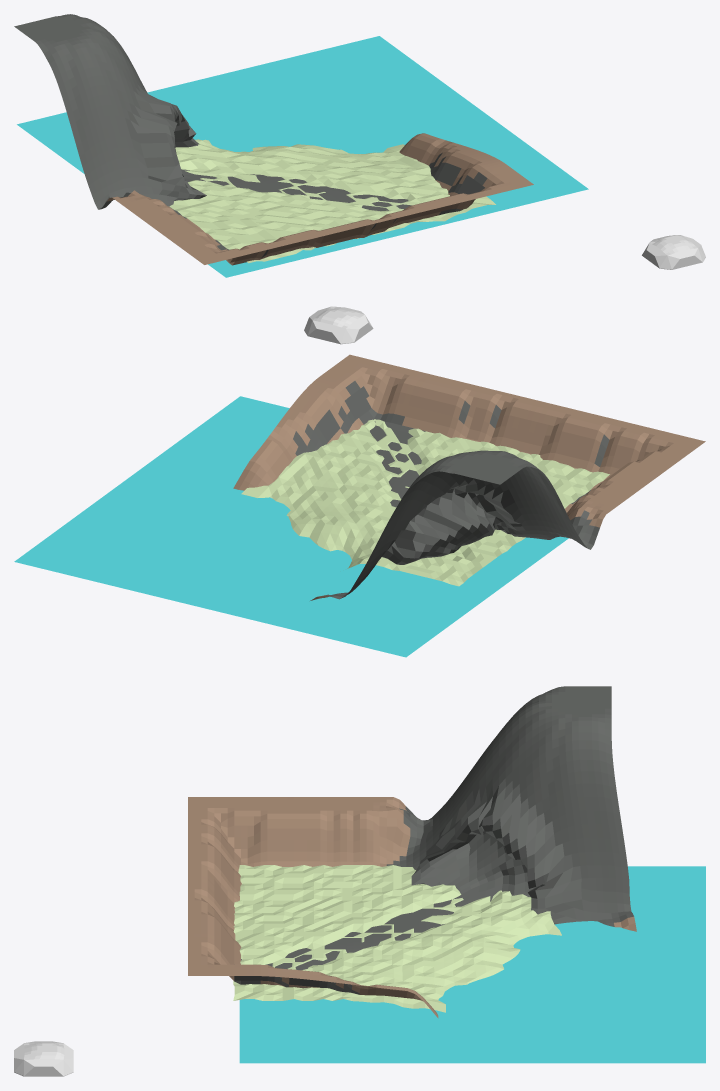
The model's file is village.fbx.
3 renders of one model, top to bottom at view 1: azimuth 30°, elevation 25°; view 2: azimuth 150°, elevation 25°; view 3: azimuth 270°, elevation 25°, orthographic. The views are drawn at different scales.
Visible parts, largest first — view 1: Plane.002, Plane, Plane.001, Cube; view 2: Plane.002, Plane, Plane.001, Cube; view 3: Plane, Plane.002, Plane.001, Cube.
Boxes of the visible parts, x1,y1,x2,y2 form: Plane.002: [17, 36, 588, 277]; Plane: [14, 14, 533, 265]; Plane.001: [169, 139, 495, 263]; Cube: [642, 235, 705, 269]; Plane.002: [14, 396, 568, 657]; Plane: [233, 354, 705, 600]; Plane.001: [241, 419, 609, 586]; Cube: [304, 306, 373, 344]; Plane: [188, 686, 636, 1018]; Plane.002: [239, 866, 705, 1063]; Plane.001: [233, 865, 561, 1012]; Cube: [14, 1041, 73, 1076].
Bounding box in the file's own units: 778 × 267 × 979.
